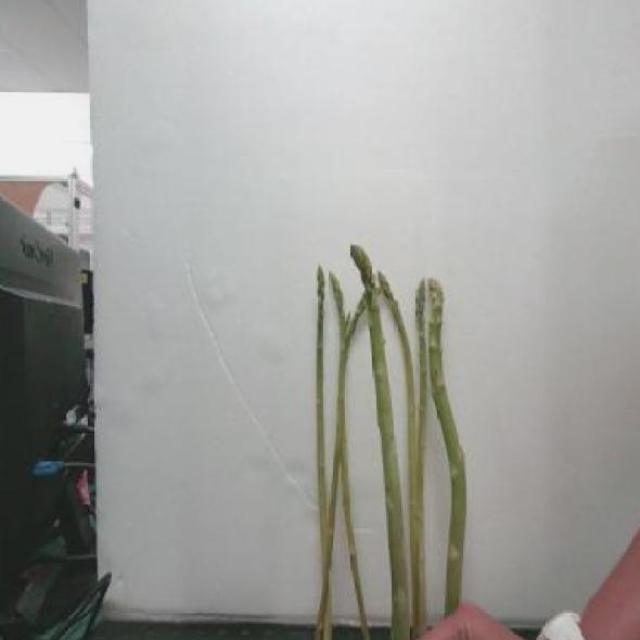aspargus: (349, 245, 414, 640), (428, 279, 468, 616)
